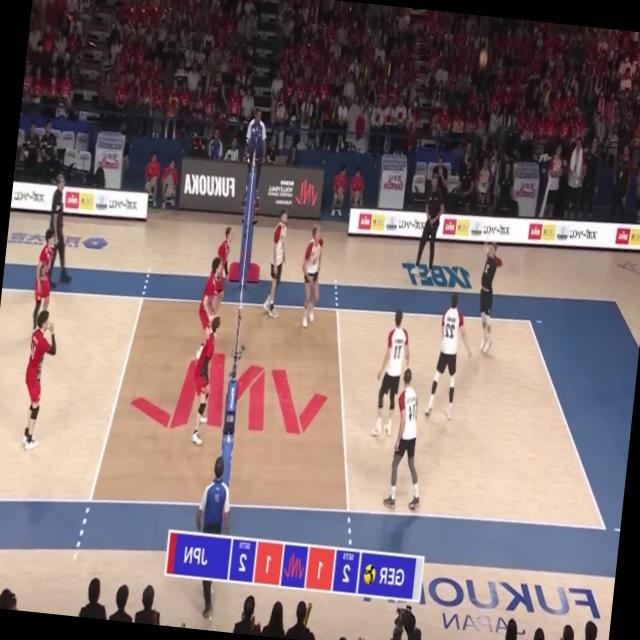referee: (184, 452, 235, 621)
team_one: (383, 364, 433, 512), (422, 290, 472, 424), (369, 304, 415, 442), (468, 236, 506, 355), (260, 209, 292, 321), (298, 222, 328, 332)
team_two: (16, 306, 59, 452), (186, 314, 222, 446), (192, 253, 226, 366), (26, 228, 58, 348), (208, 223, 235, 302)
